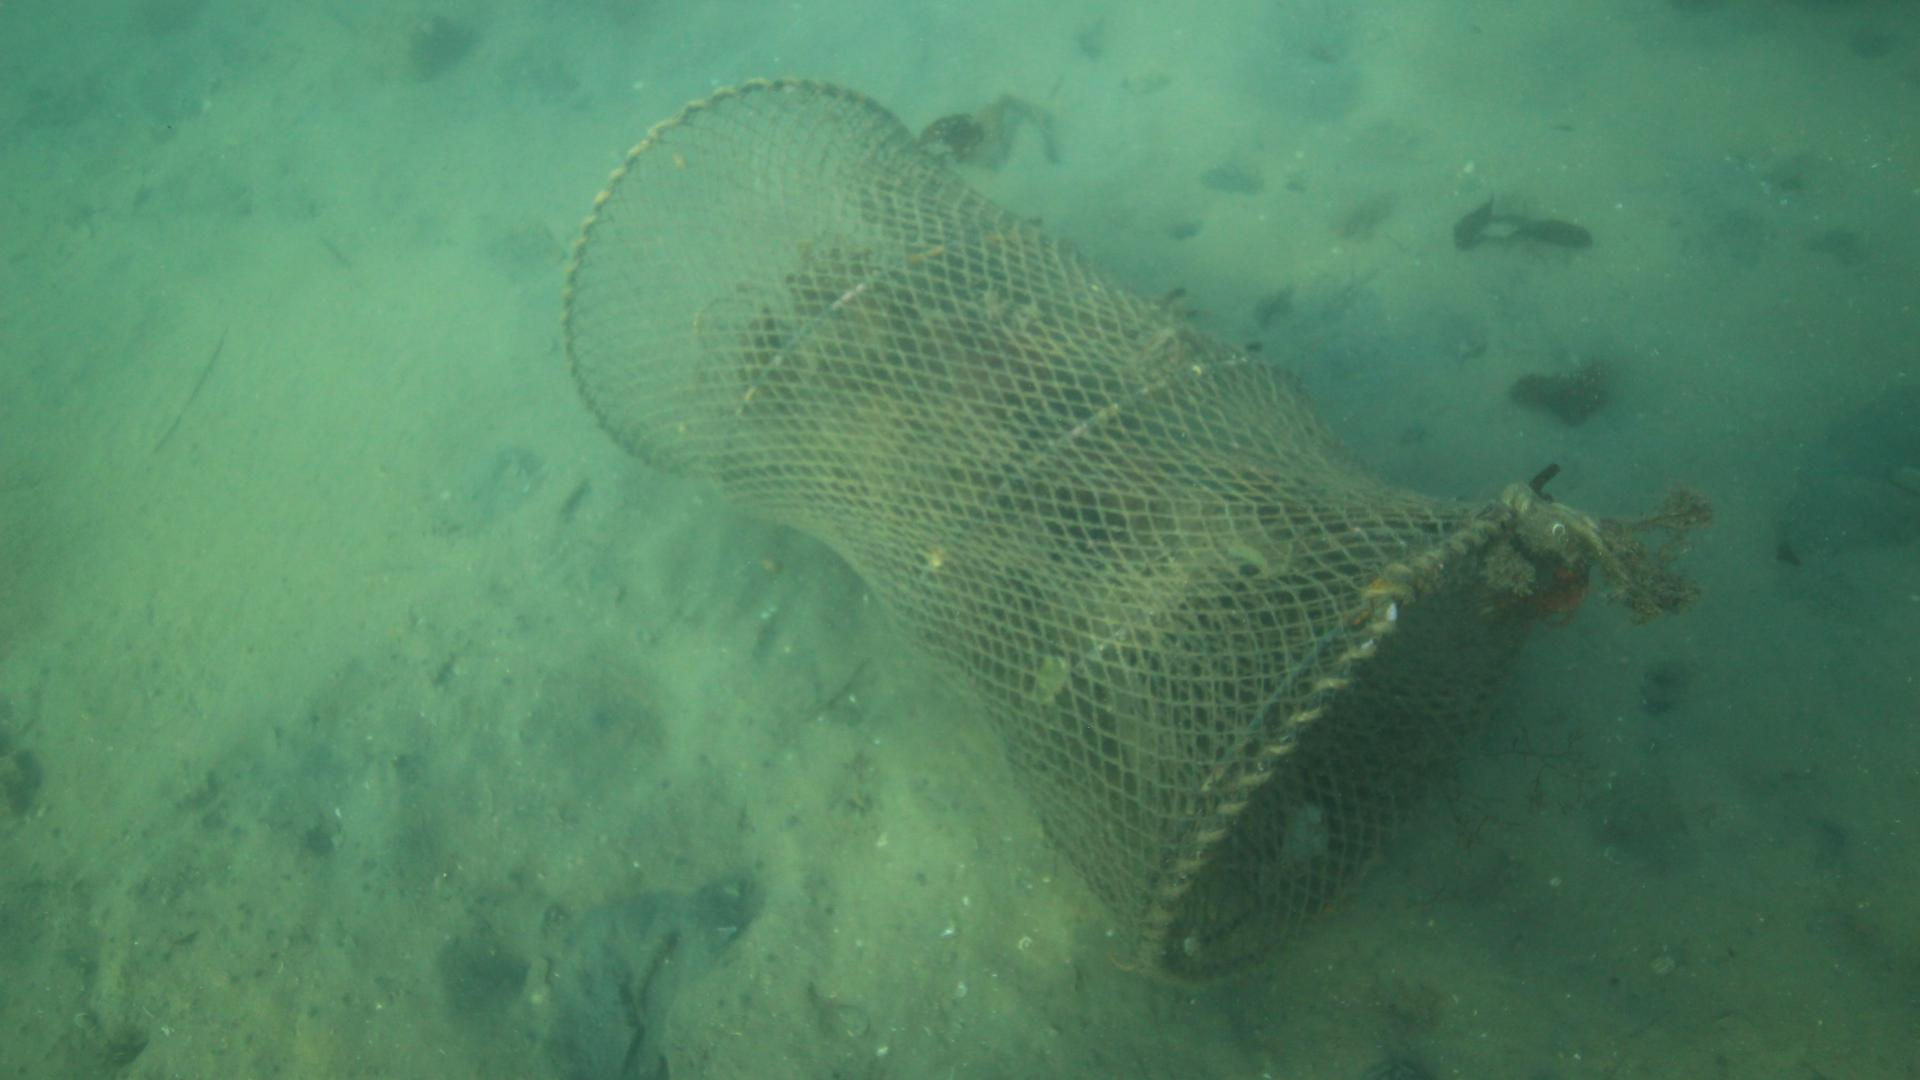spring fish trap: (558, 75, 1543, 993)
